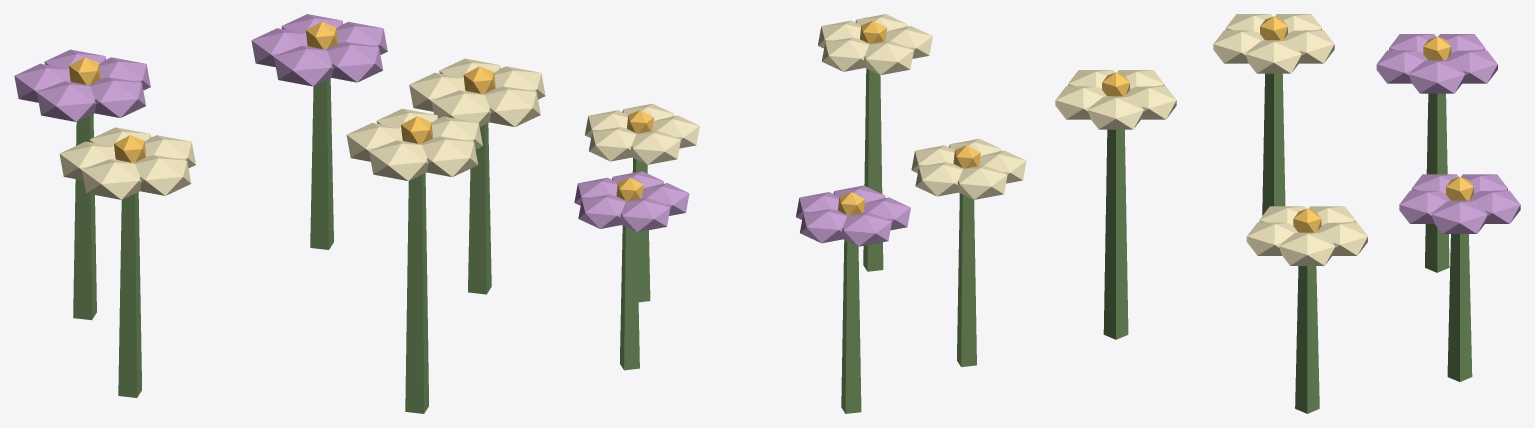
File: enfeite_flores.glb
3 renders of one model, left to right at view 1: azimuth 30°, elevation 25°; view 2: azimuth 150°, elevation 25°; view 3: azimuth 270°, elevation 25°, orthographic. The views are drawn at different scales.
Visible parts, largest first — view 1: deserto_enfeite_flores; view 2: deserto_enfeite_flores; view 3: deserto_enfeite_flores.
Part boxes in pixels (left/top/right/bottom): deserto_enfeite_flores: left=14, top=14, right=545, bottom=413; deserto_enfeite_flores: left=574, top=14, right=1026, bottom=413; deserto_enfeite_flores: left=1055, top=14, right=1520, bottom=413.
Size of the model in its own units: 0.366 by 0.211 by 0.339.
